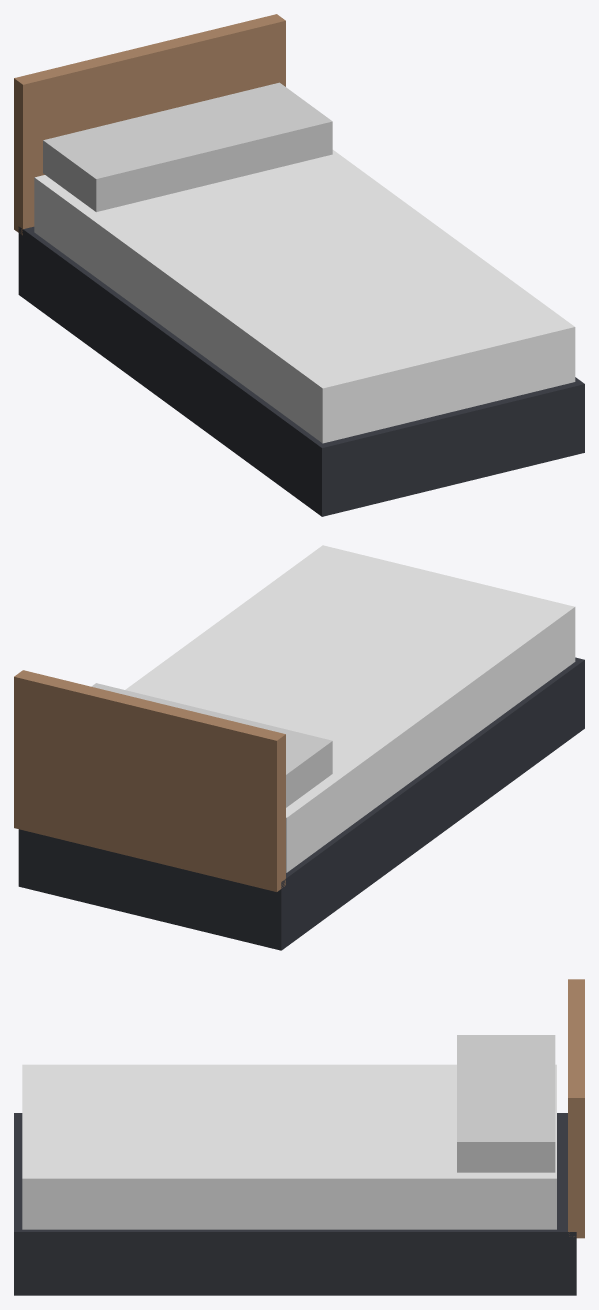
File: bed.glb
3 views of the same model, one above another, from view 1: azimuth 30°, elevation 25°; view 2: azimuth 150°, elevation 25°; view 3: azimuth 270°, elevation 25° (orthographic). The views are drawn at different scales.
Parts seen in each view (by area): view 1: box (×4); view 2: box (×4); view 3: box (×4).
Boxes of the visible parts, <box> form: box (×4): <box>14,14,584,516</box>; box (×4): <box>14,545,584,950</box>; box (×4): <box>14,979,584,1295</box>.
Bounding box in the file's own units: 1 × 0.775 × 2.03.
